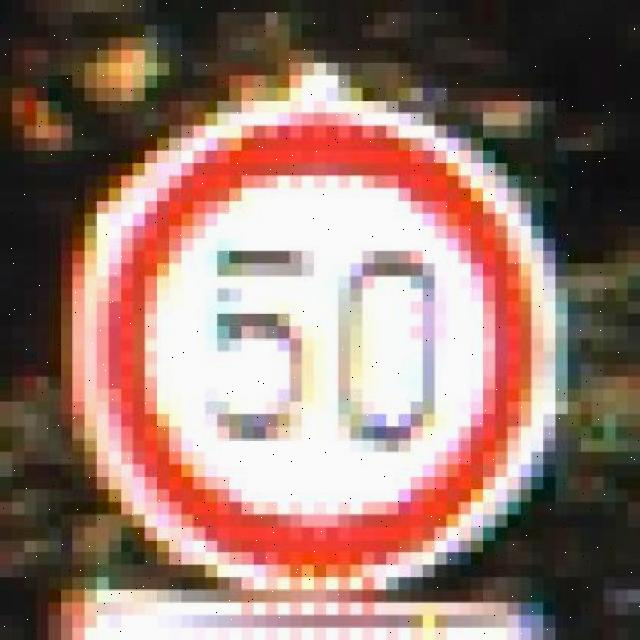Speed limit 50: (64, 98, 552, 593)
